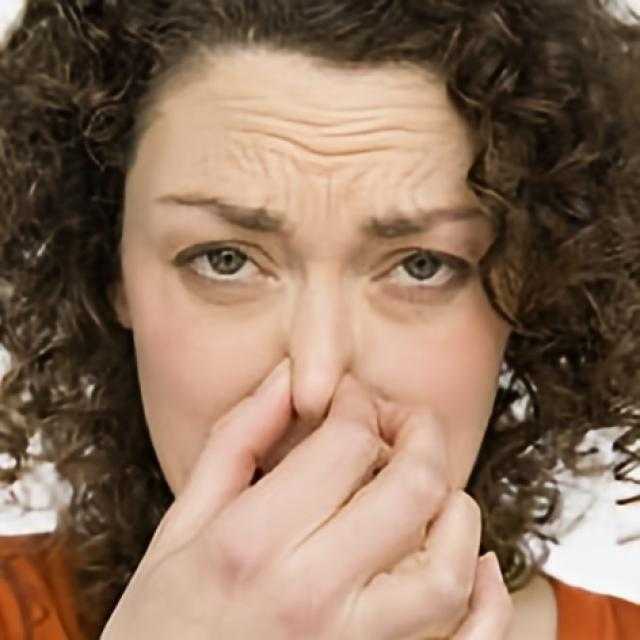disgust: (123, 28, 530, 604)
